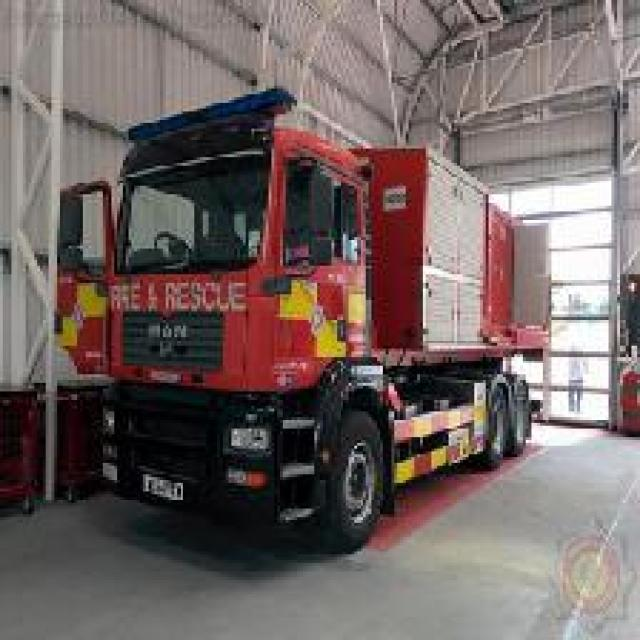Fire-truck: (49, 86, 552, 554)
